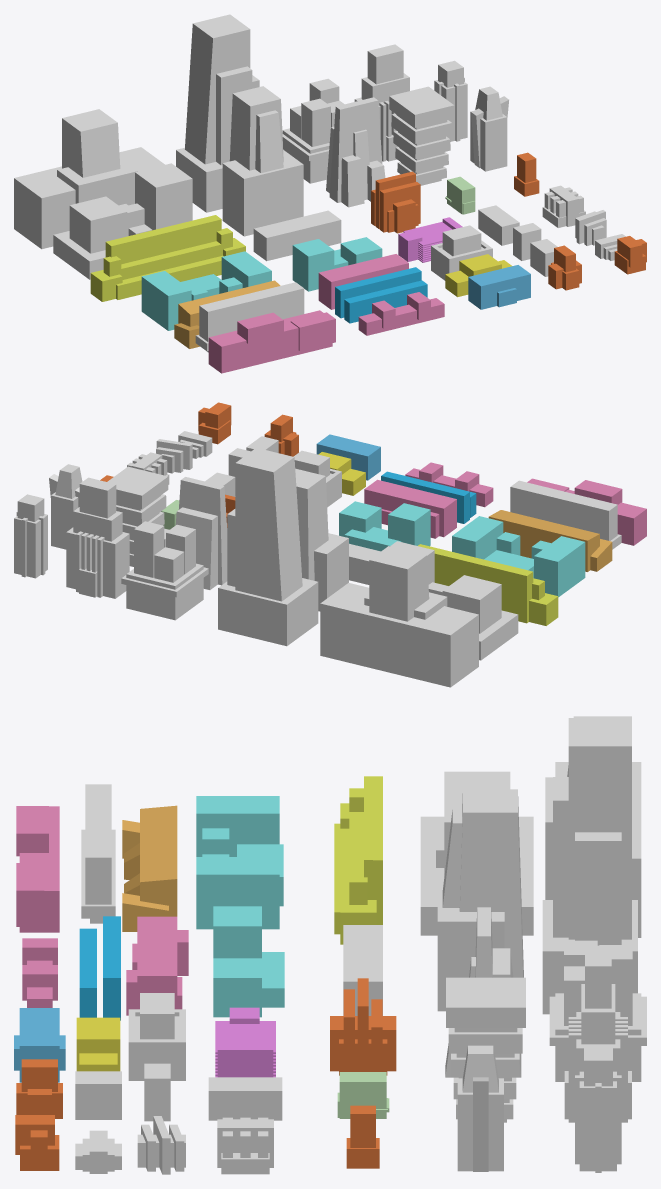
The model's file is Buildings-v3.fbx.
The picture shows the model from 3 angles, top to bottom: view 1: azimuth 30°, elevation 25°; view 2: azimuth 150°, elevation 25°; view 3: azimuth 270°, elevation 25°; orthographic projection. The views are drawn at different scales.
Visible parts, largest first — view 1: Building.Main.Type1, Building.Main.Type2, Building.Main.Type7, Building.Main.Type6, Building.Huge.Type1, Building.Huge.Type5, Building.Main.Type8, Building.Main.Type9, Building.Huge.Type2, Building.Main.Type3, Building.Huge.Type4, Building.Main.Type4 (+22 smaller); view 2: Building.Main.Type1, Building.Main.Type2, Building.Main.Type3, Building.Main.Type4, Building.Huge.Type2, Building.Main.Type7, Building.Huge.Type1, Building.Main.Type8, Building.Main.Type6, Building.Huge.Type4, Building.Long.Type2, Building.Main.Type9 (+16 smaller); view 3: Building.Main.Type2, Building.Main.Type7, Building.Huge.Type2, Building.Main.Type9, Building.Huge.Type1, Building.Long.Type2, Building.Main.Type6, Building.Huge.Type3, Building.Main.Type4, Building.Main.Type3, Building.Huge.Type5, Building.Main.Type10 (+23 smaller).
Part boxes in pixels (x1,y1,x2,y2): Building.Main.Type1: [14, 109, 164, 249]; Building.Main.Type2: [176, 14, 259, 212]; Building.Main.Type7: [222, 86, 303, 236]; Building.Main.Type6: [53, 163, 192, 279]; Building.Huge.Type1: [90, 215, 245, 301]; Building.Huge.Type5: [208, 310, 335, 373]; Building.Main.Type8: [326, 97, 385, 207]; Building.Main.Type9: [389, 86, 454, 185]; Building.Huge.Type2: [141, 251, 271, 330]; Building.Main.Type3: [282, 78, 344, 183]; Building.Huge.Type4: [195, 282, 304, 352]; Building.Main.Type4: [354, 44, 409, 161]; Building.Main.Type1: [320, 546, 478, 687]; Building.Main.Type2: [218, 448, 318, 646]; Building.Main.Type3: [121, 521, 208, 620]; Building.Main.Type4: [66, 477, 129, 598]; Building.Huge.Type2: [452, 516, 585, 597]; Building.Main.Type7: [295, 468, 348, 611]; Building.Huge.Type1: [418, 544, 558, 625]; Building.Main.Type8: [175, 477, 227, 589]; Building.Main.Type6: [390, 541, 518, 660]; Building.Huge.Type4: [510, 480, 621, 549]; Building.Long.Type2: [339, 501, 430, 551]; Building.Main.Type9: [107, 466, 168, 566]; Building.Main.Type2: [542, 718, 637, 1014]; Building.Main.Type7: [437, 789, 523, 1011]; Building.Huge.Type2: [196, 796, 283, 929]; Building.Main.Type9: [446, 977, 525, 1122]; Building.Huge.Type1: [334, 776, 382, 944]; Building.Long.Type2: [213, 906, 284, 1017]; Building.Main.Type6: [420, 771, 533, 935]; Building.Huge.Type3: [122, 805, 177, 931]; Building.Main.Type4: [564, 945, 631, 1122]; Building.Main.Type3: [549, 940, 646, 1081]; Building.Huge.Type5: [16, 806, 59, 932]; Building.Main.Type10: [457, 1045, 503, 1171].
Size of the model in its own units: 6873 by 2417 by 5383.
